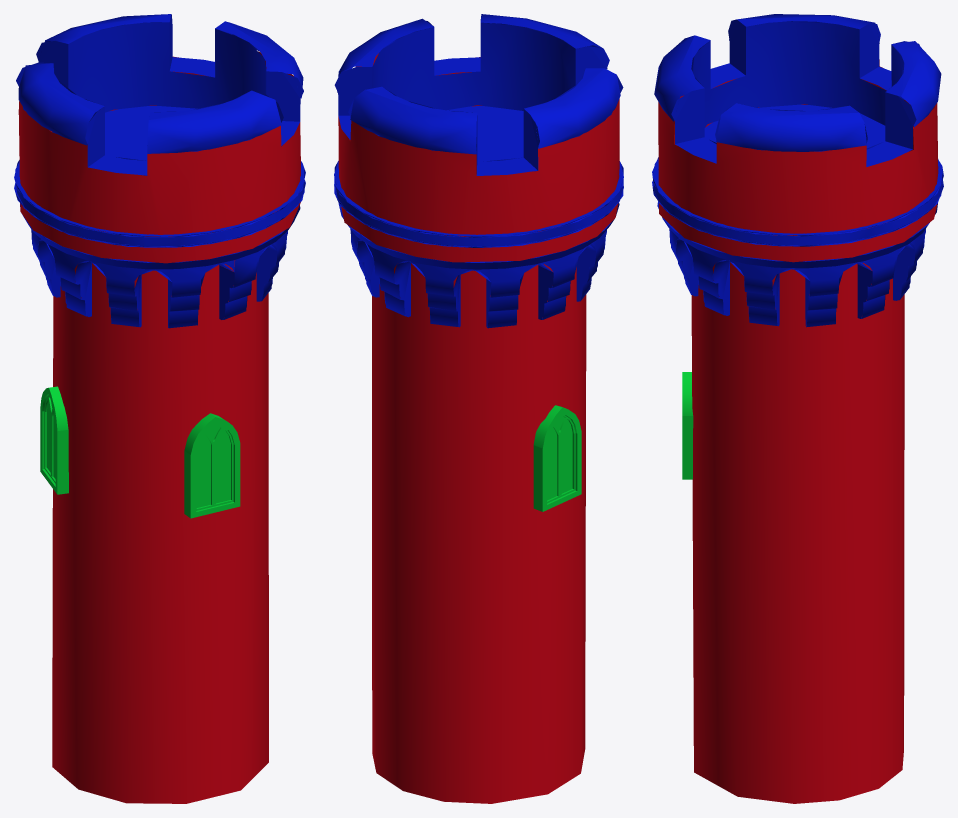
Rendered from Tower (1).fbx.
3 views of the same model, side by side, from view 1: azimuth 30°, elevation 25°; view 2: azimuth 150°, elevation 25°; view 3: azimuth 270°, elevation 25° (orthographic).
Visible parts, largest first — view 1: Tower.001, Group_2.004, Group_2.000; view 2: Tower.001, Group_2.000; view 3: Tower.001, Group_2.004.
Part boxes in pixels (left/top/right/bottom): Tower.001: left=14, top=14, right=305, bottom=803; Group_2.004: left=184, top=413, right=240, bottom=518; Group_2.000: left=40, top=386, right=68, bottom=494; Tower.001: left=334, top=14, right=623, bottom=803; Group_2.000: left=533, top=405, right=581, bottom=511; Tower.001: left=652, top=14, right=943, bottom=803; Group_2.004: left=682, top=372, right=693, bottom=479.
Size of the model in its own units: 552 by 1446 by 552.
